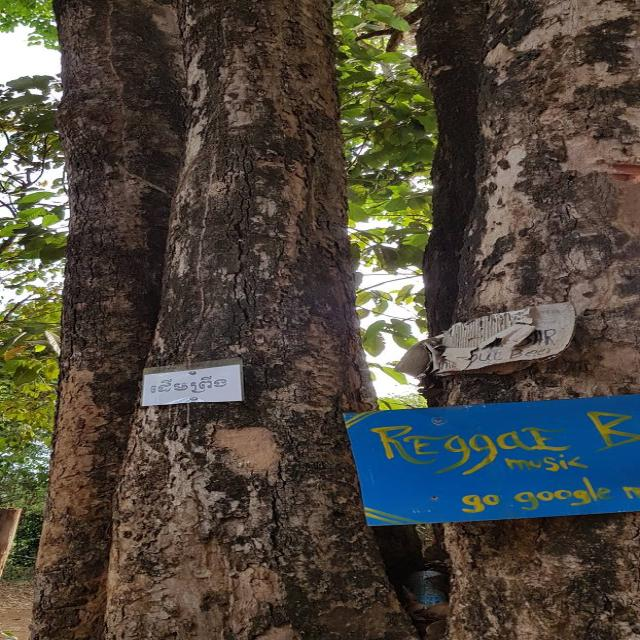Yolov11kh: (149, 370, 237, 396)
